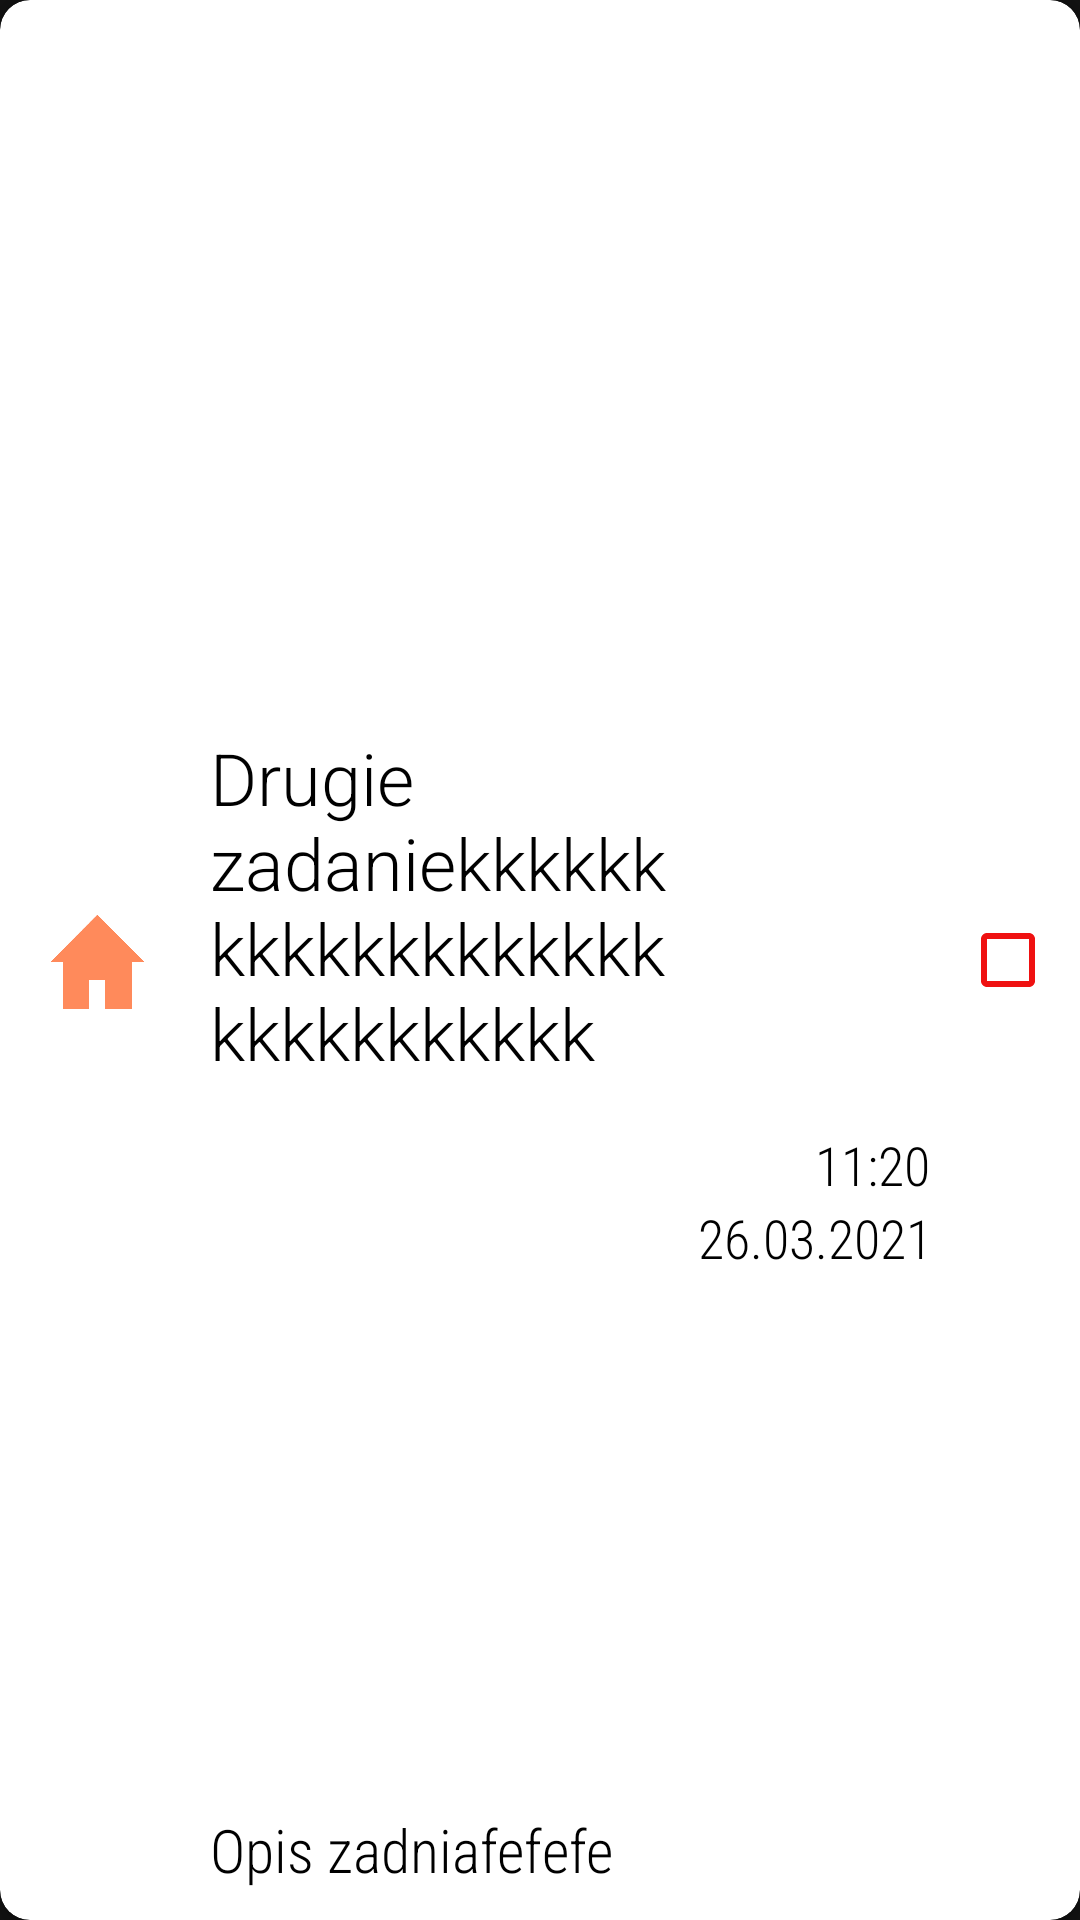

Icon click points for this 1080x1920 phone screenshot, format (x=x, y=y):
home range: (x=97, y=962)
